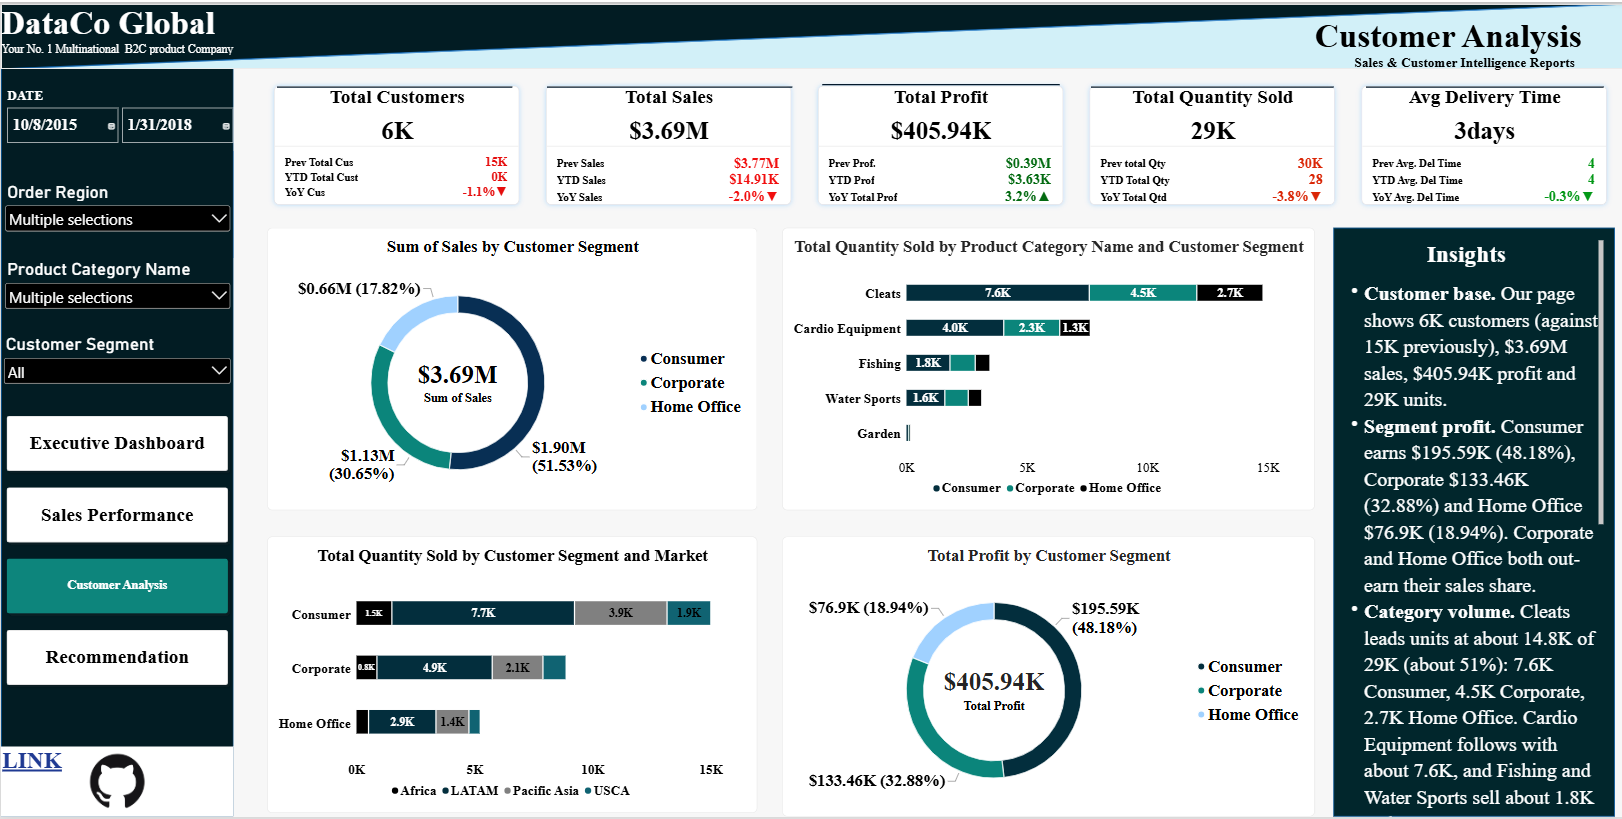

The dashboard page shown, as its layout file describes it:
{"tool":"powerbi","page":{"name":"Customer Analysis","canvas":[2600,1300],"ordinal":2},"visuals":[{"type":"shape","box":[0,0,372,1300],"z":0},{"type":"shape","box":[0,0,2600,104],"z":1000},{"type":"shape","box":[0,0,2600,104],"z":2000},{"type":"textbox","box":[0,0,391.1,103.6],"z":3000},{"type":"textbox","box":[2102,20,480,98],"z":4000},{"type":"pageNavigator","box":[0,650,372,450],"z":5000},{"type":"slicer","fields":{"Values":["Dim_Customer.Customer Segment"]},"box":[0,528,372,90],"z":6000},{"type":"image","box":[0,1188,372,112],"z":7000},{"type":"textbox","box":[2,1188,138,72],"z":8000},{"type":"slicer","fields":{"Values":["Dim_Dates.Date"]},"box":[2,134,370,150],"z":9000},{"type":"cardVisual","fields":{"Data":["_Measures.Total Customers","_Measures.Total Sales","_Measures.Total Profit","_Measures.Total Quantity","_Measures.Avg Delivery Time"]},"box":[426,120,2156,212],"z":10000},{"type":"donutChart","fields":{"Category":["Dim_Customer.Customer Segment"],"Y":["Sum(FactSales.Sales)"]},"box":[426,358,784,452],"z":11000},{"type":"donutChart","fields":{"Category":["Dim_Customer.Customer Segment"],"Y":["_Measures.Total Profit"]},"box":[1250,852,852,448],"z":12000},{"type":"barChart","fields":{"Category":["Dim_Customer.Customer Segment"],"Series":["Dim_Location.Market"],"Y":["_Measures.Total Quantity Sold"]},"box":[426,852,784,442],"z":13000},{"type":"barChart","fields":{"Category":["Dim_Product.Product Category Name"],"Series":["Dim_Customer.Customer Segment"],"Y":["_Measures.Total Quantity Sold"]},"box":[1250,358,852,452],"z":14000},{"type":"shape","box":[442,70,376,126],"z":15000},{"type":"shape","box":[874,70,392,126],"z":16000},{"type":"shape","box":[1314,66,380,126],"z":17000},{"type":"shape","box":[1744,70,388,126],"z":18000},{"type":"shape","box":[2184,70,380,126],"z":19000},{"type":"slicer","fields":{"Values":["Dim_Location.Order Region"]},"box":[2,284,370,94],"z":20000},{"type":"slicer","fields":{"Values":["Dim_Product.Product Category Name"]},"box":[2,408,370,88],"z":21000},{"type":"shape","box":[2132,358,450,942],"z":22000},{"type":"textbox","box":[2132,378,432,922],"z":22001}]}

Visuals, with their boxes in screenshot pixels (x1, y1, x2, y2), scaled from the page's 2600x1300 canvas onto the 1622x819 screenshot:
shape: bbox(0, 0, 232, 818)
shape: bbox(0, 0, 1621, 66)
shape: bbox(0, 0, 1621, 66)
textbox: bbox(0, 0, 244, 65)
textbox: bbox(1311, 13, 1611, 74)
pageNavigator: bbox(0, 410, 232, 693)
slicer - Dim_Customer.Customer Segment: bbox(0, 333, 232, 389)
image: bbox(0, 748, 232, 818)
textbox: bbox(1, 748, 87, 794)
slicer - Dim_Dates.Date: bbox(1, 84, 232, 179)
cardVisual - _Measures.Total Customers x _Measures.Total Sales: bbox(266, 76, 1611, 209)
donutChart - Dim_Customer.Customer Segment x Sum(FactSales.Sales): bbox(266, 226, 755, 510)
donutChart - Dim_Customer.Customer Segment x _Measures.Total Profit: bbox(780, 537, 1311, 818)
barChart - Dim_Customer.Customer Segment x Dim_Location.Market: bbox(266, 537, 755, 815)
barChart - Dim_Product.Product Category Name x Dim_Customer.Customer Segment: bbox(780, 226, 1311, 510)
shape: bbox(276, 44, 510, 123)
shape: bbox(545, 44, 790, 123)
shape: bbox(820, 42, 1057, 121)
shape: bbox(1088, 44, 1330, 123)
shape: bbox(1362, 44, 1600, 123)
slicer - Dim_Location.Order Region: bbox(1, 179, 232, 238)
slicer - Dim_Product.Product Category Name: bbox(1, 257, 232, 312)
shape: bbox(1330, 226, 1611, 818)
textbox: bbox(1330, 238, 1600, 818)
